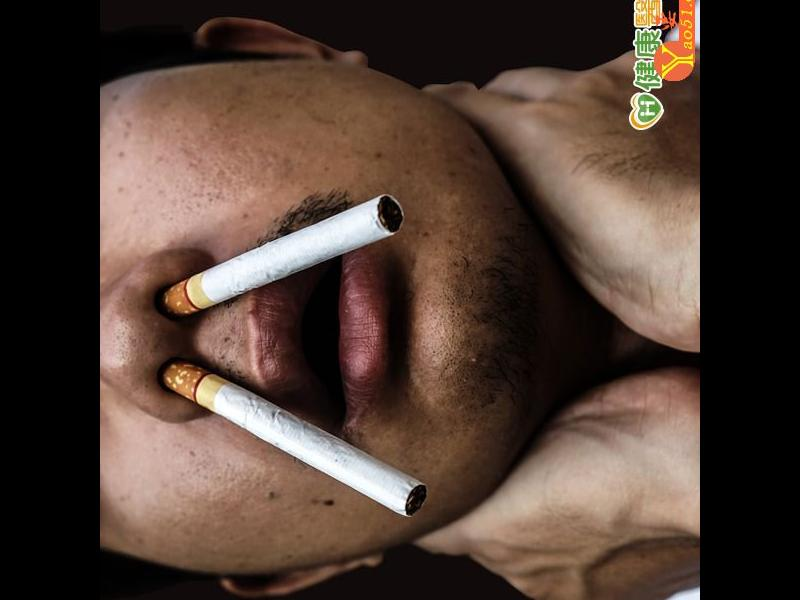Cigarette: (162, 362, 420, 514), (159, 194, 404, 312)
